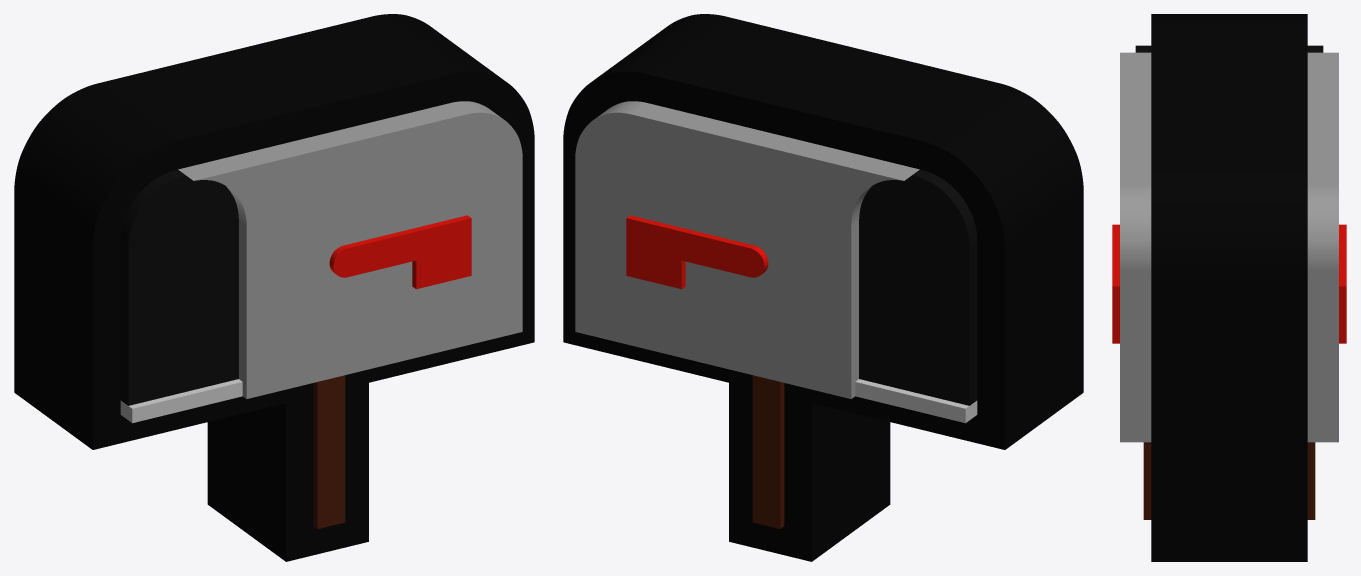
The picture shows the model from 3 angles, left to right: view 1: azimuth 30°, elevation 25°; view 2: azimuth 150°, elevation 25°; view 3: azimuth 270°, elevation 25°; orthographic projection.
Parts seen in each view (by area): view 1: U+1F4ED_layer00_obj00, U+1F4ED_layer04_obj00, U+1F4ED_layer02_obj00, U+1F4ED_layer05_obj00, U+1F4ED_layer01_obj00, U+1F4ED_layer03_obj00; view 2: U+1F4ED_layer00_obj00, U+1F4ED_layer04_obj00, U+1F4ED_layer02_obj00, U+1F4ED_layer05_obj00, U+1F4ED_layer01_obj00, U+1F4ED_layer03_obj00; view 3: U+1F4ED_layer00_obj00, U+1F4ED_layer04_obj00, U+1F4ED_layer05_obj00, U+1F4ED_layer01_obj00.
Part boxes in pixels (left/top/right/bottom): U+1F4ED_layer00_obj00: left=14, top=14, right=534, bottom=561; U+1F4ED_layer04_obj00: left=178, top=101, right=522, bottom=398; U+1F4ED_layer02_obj00: left=120, top=169, right=238, bottom=405; U+1F4ED_layer05_obj00: left=329, top=215, right=471, bottom=289; U+1F4ED_layer01_obj00: left=313, top=375, right=345, bottom=528; U+1F4ED_layer03_obj00: left=120, top=379, right=242, bottom=423; U+1F4ED_layer00_obj00: left=563, top=14, right=1083, bottom=561; U+1F4ED_layer04_obj00: left=575, top=101, right=919, bottom=398; U+1F4ED_layer02_obj00: left=859, top=169, right=977, bottom=405; U+1F4ED_layer05_obj00: left=626, top=215, right=768, bottom=289; U+1F4ED_layer01_obj00: left=752, top=375, right=784, bottom=528; U+1F4ED_layer03_obj00: left=855, top=379, right=977, bottom=423; U+1F4ED_layer00_obj00: left=1151, top=14, right=1307, bottom=561; U+1F4ED_layer04_obj00: left=1120, top=52, right=1338, bottom=442; U+1F4ED_layer05_obj00: left=1112, top=224, right=1346, bottom=343; U+1F4ED_layer01_obj00: left=1143, top=442, right=1315, bottom=519.
Size of the model in its own units: 0.6491 by 0.6287 by 0.3.
